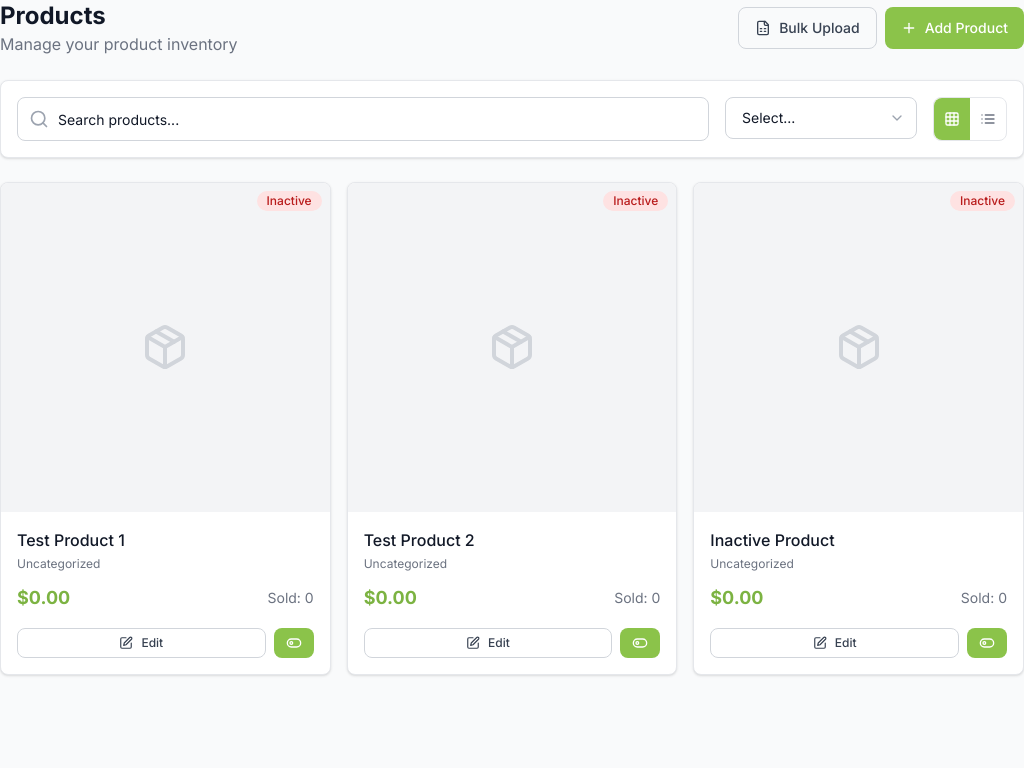
it: ProductsPage › opens add product modal on button click
Step 1. Click the button "Add Product" → (954, 28), box x1=885 y1=7 x2=1023 y2=49
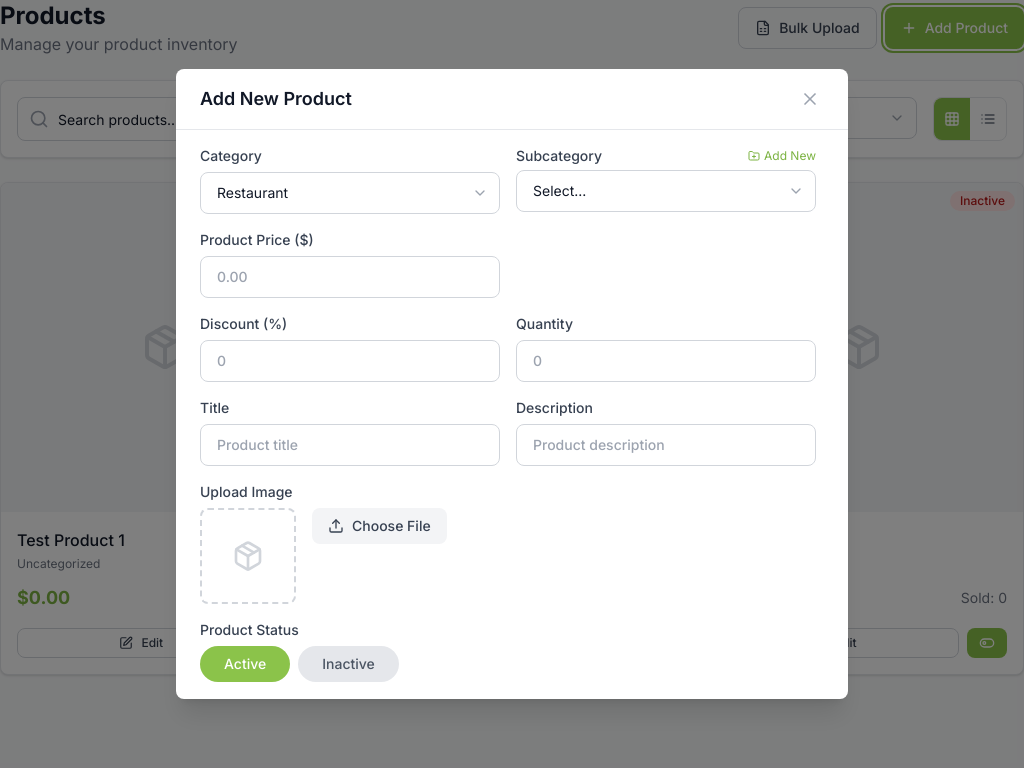
Result: the heading "Add New Product" is shown at x1=200 y1=85 x2=352 y2=113
